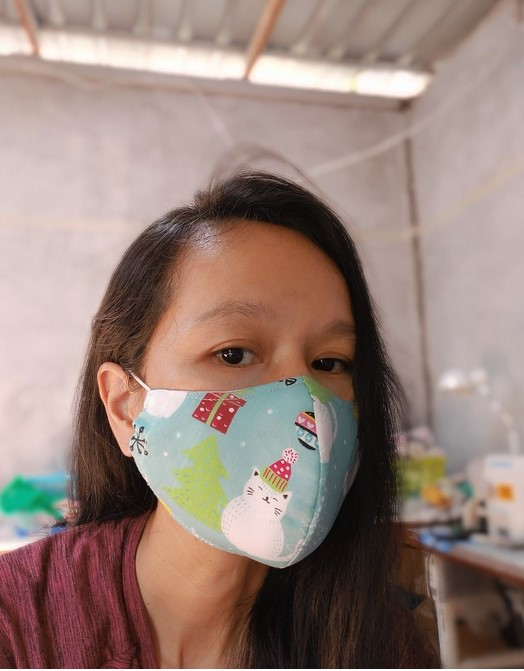face_with_mask: (97, 172, 382, 574)
